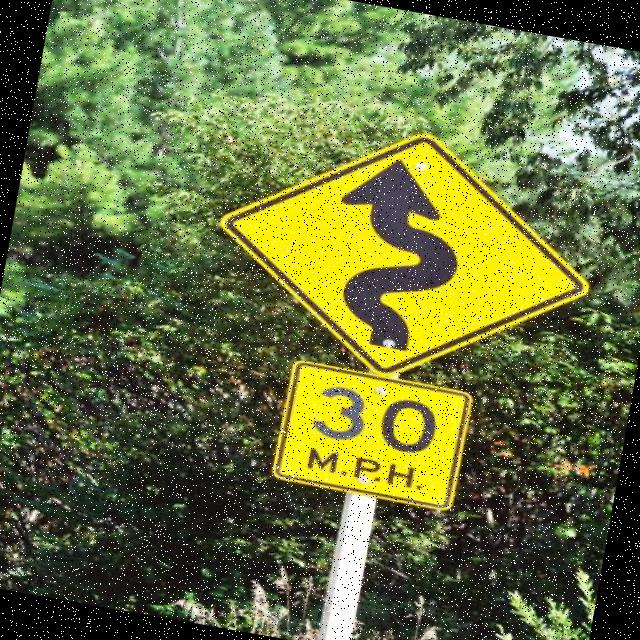left_sharp_curve: (180, 94, 630, 409)
